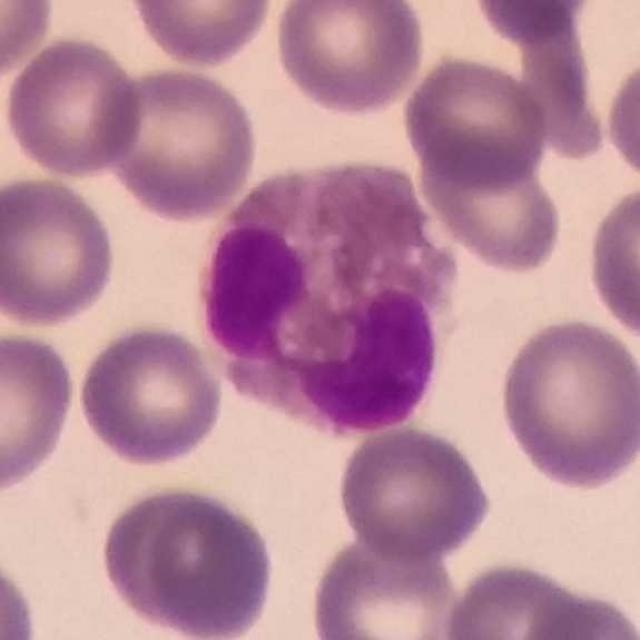Eosinophil: (198, 161, 461, 436)
RBC: (96, 481, 282, 640), (98, 62, 262, 225), (495, 312, 640, 494), (74, 318, 228, 471), (333, 422, 495, 565), (1, 31, 147, 182), (398, 50, 551, 190), (413, 143, 566, 277), (0, 172, 120, 331), (270, 0, 428, 119), (304, 527, 466, 640), (0, 326, 79, 500), (438, 556, 599, 640), (122, 0, 280, 70), (583, 180, 640, 348), (515, 587, 639, 640), (466, 0, 599, 46), (601, 51, 640, 188), (0, 0, 59, 88), (0, 545, 42, 639)
